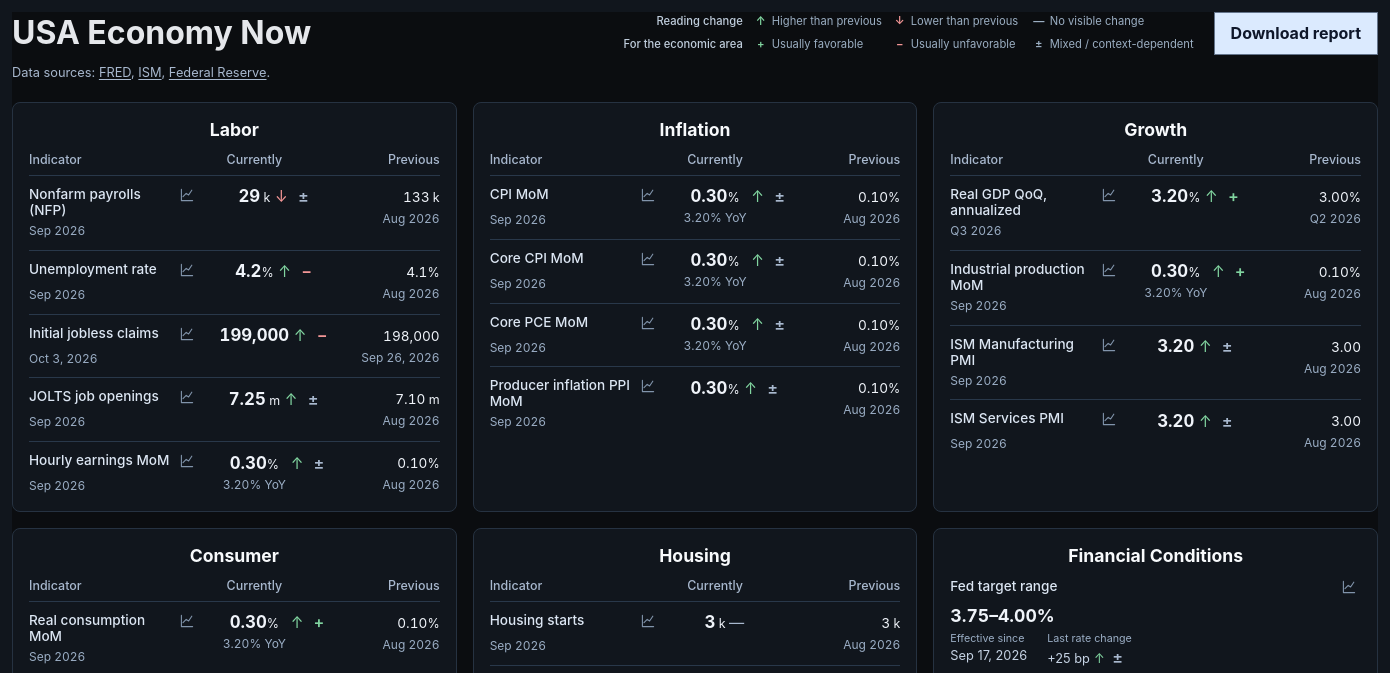
Test case: reading popup separates name, periods and rounded difference in en
Click the button "↓".
click(281, 197)  # box x1=272 y1=186 x2=290 y2=208
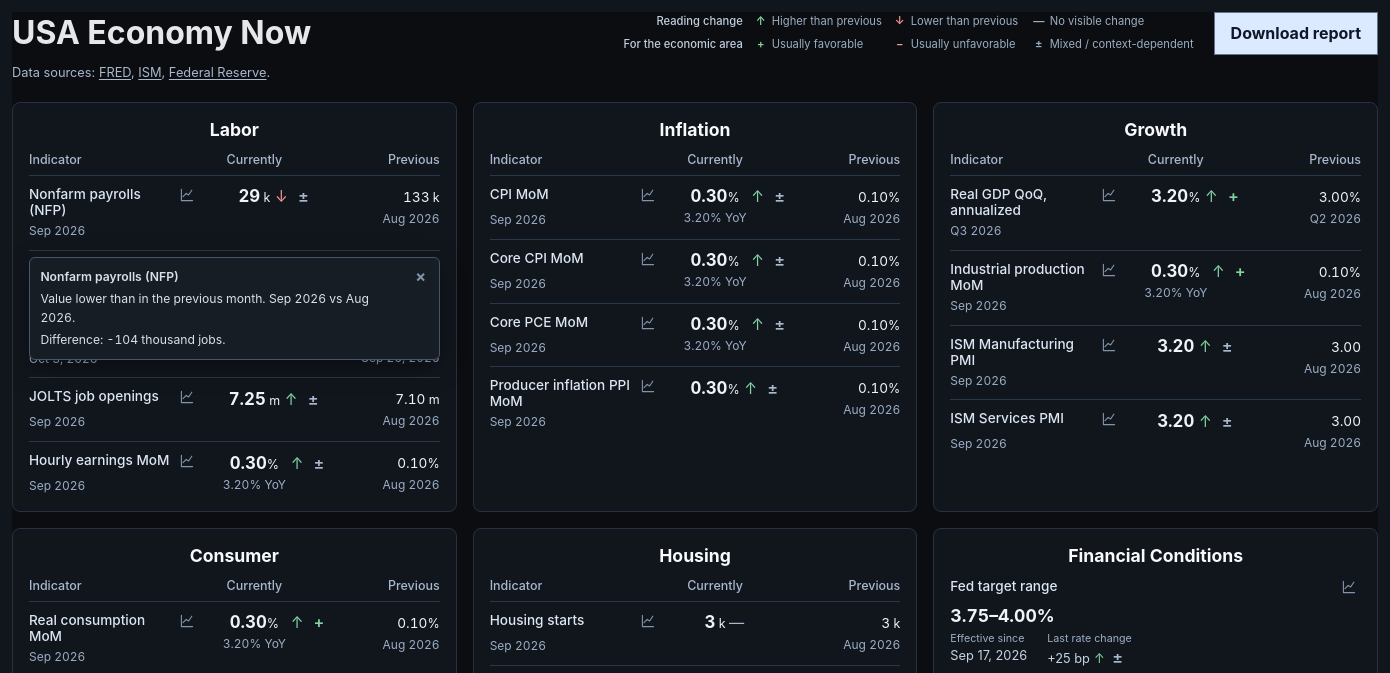
Expected: the text "Nonfarm payrolls (NFP)" is shown, x1=40 y1=269 x2=179 y2=284
Expected: the text "Difference: -104 thousand jobs." is shown, x1=40 y1=332 x2=226 y2=347
Expected: the button named "Close explanation" is shown, x1=408 y1=263 x2=434 y2=289
